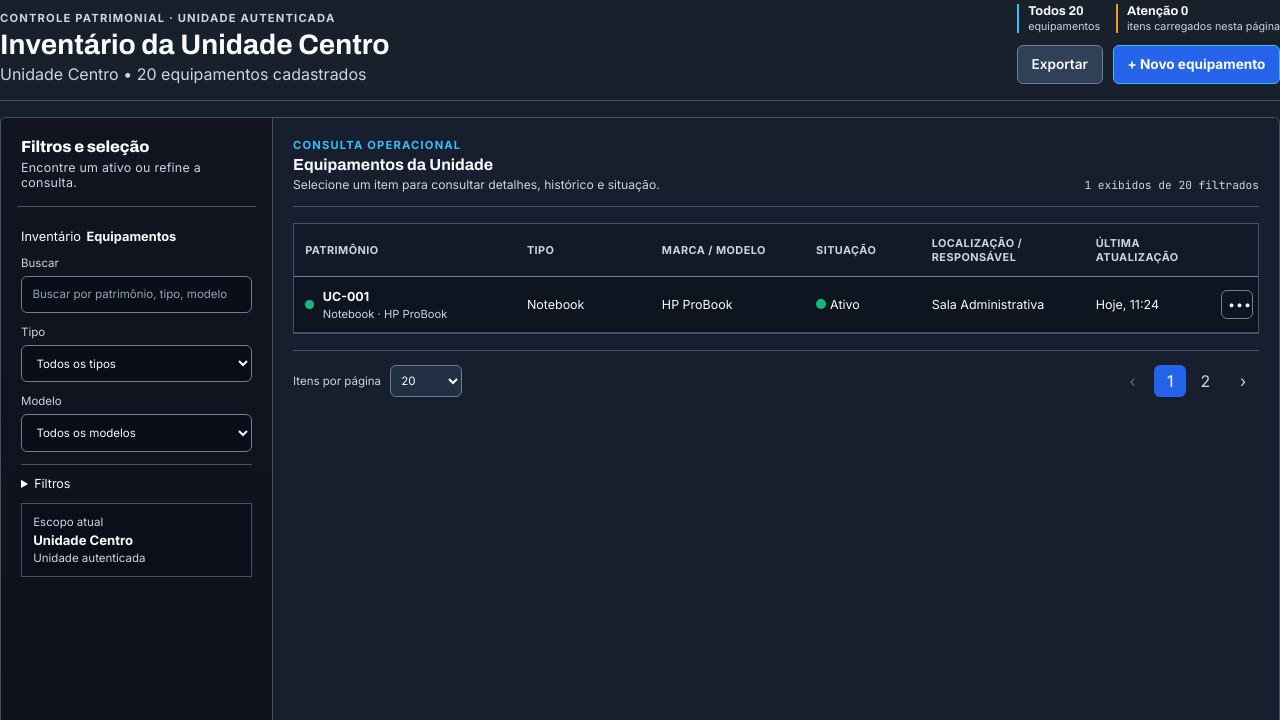
Test: keeps server pagination in the URL and opens an equipment detail modal
Click the button named "Próxima página" at (1243, 381), box [1227,365,1259,397]
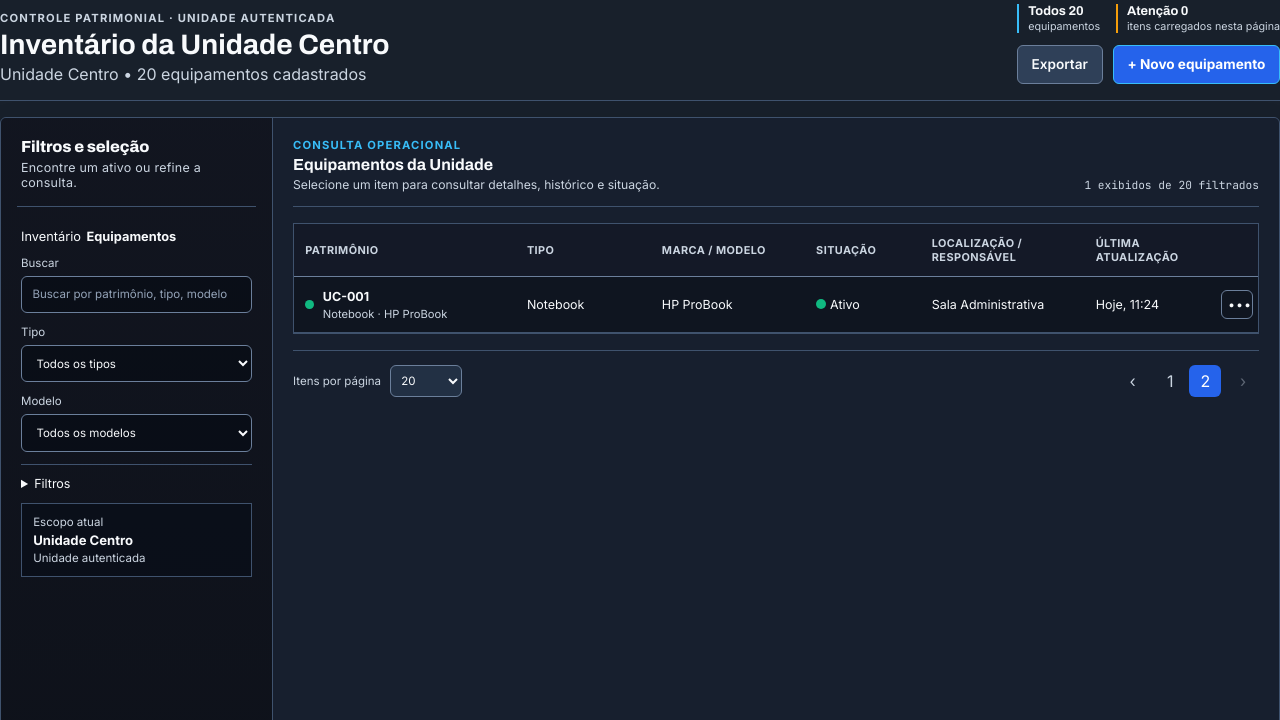
Click the button named "ver detalhes de UC-001" at (1237, 305), box [1221,290,1253,319]
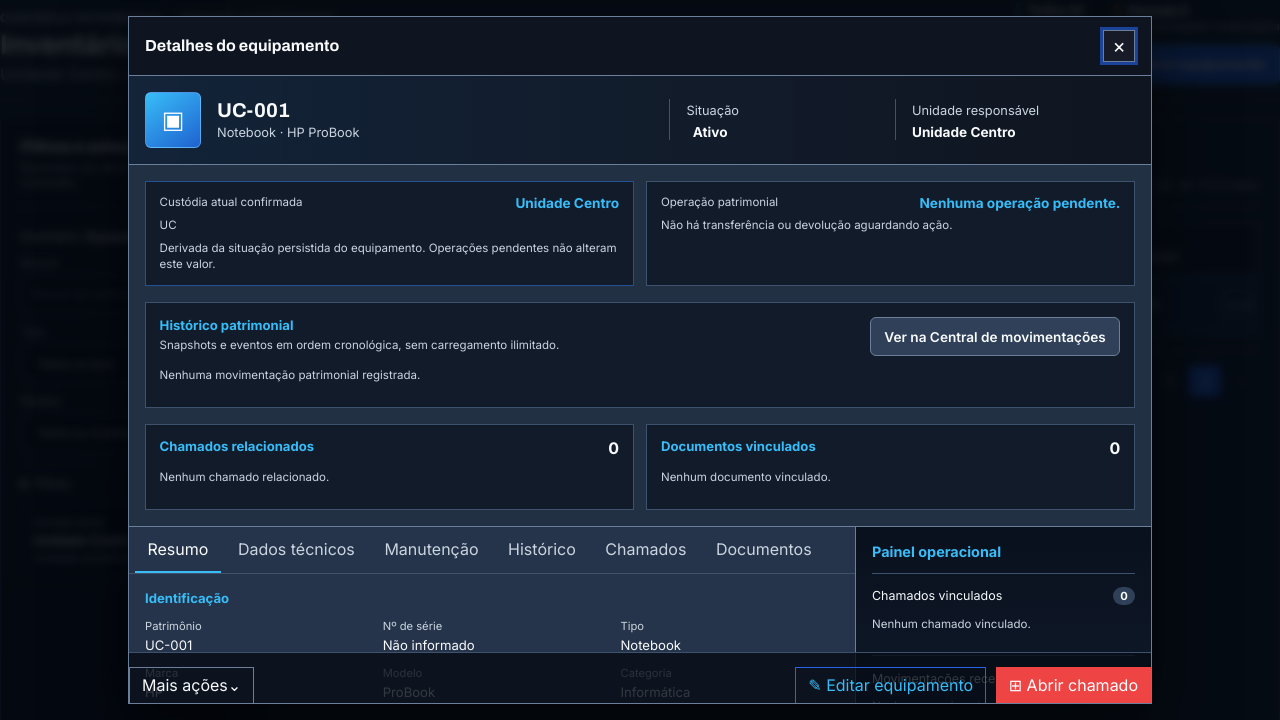
Check: the dialog named "equipamento UC-001" is shown
Click the button named "Fechar" at (1119, 46), box [1103,30,1135,62]
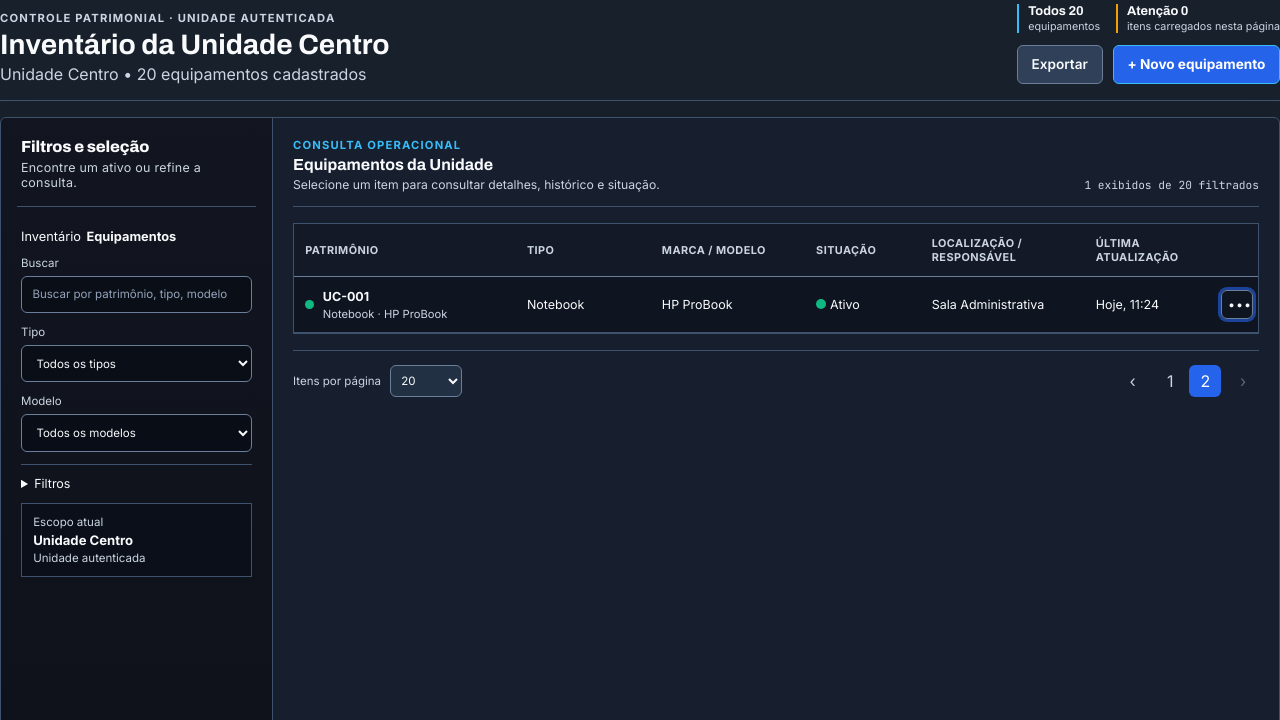
Check: the dialog is gone
